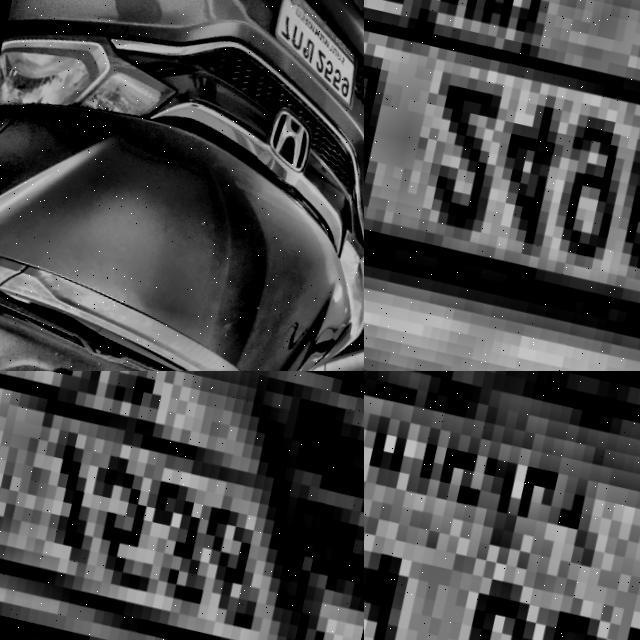license-plate: (364, 0, 640, 371), (0, 371, 364, 640), (364, 371, 640, 640), (255, 0, 364, 117)
